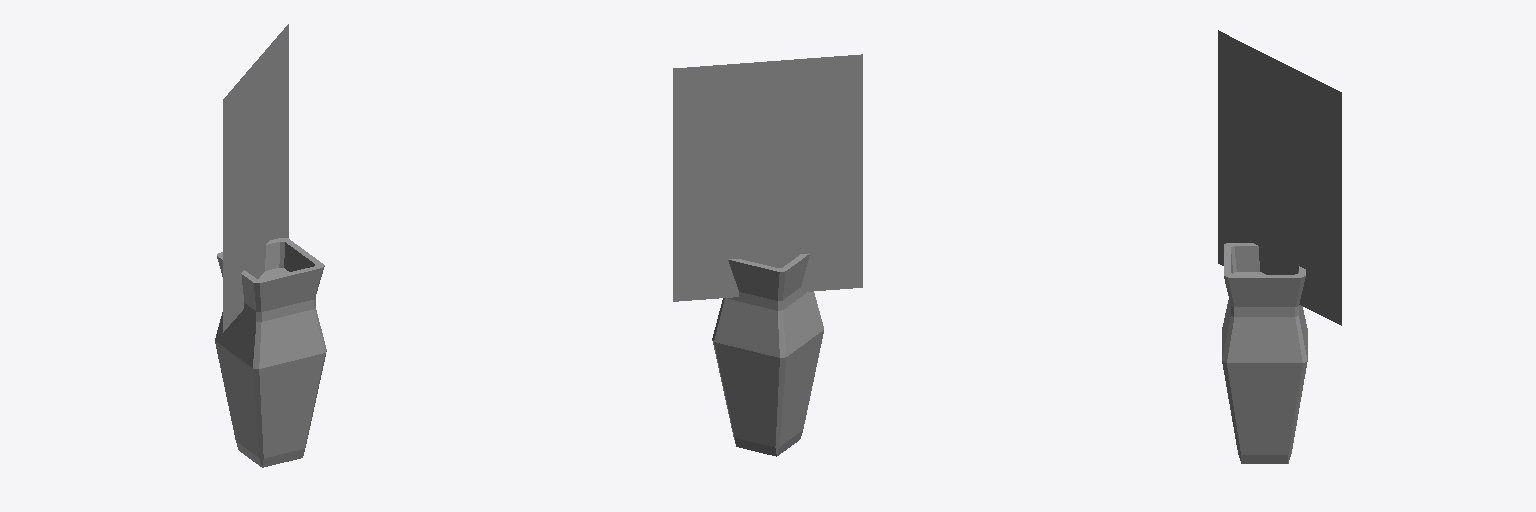
The model's file is TanPot.obj.
The picture shows the model from 3 angles: view 1: azimuth 30°, elevation 25°; view 2: azimuth 150°, elevation 25°; view 3: azimuth 270°, elevation 25°; orthographic projection.
Parts seen in each view (by area): view 1: Cube.153_Cube.225, Plane.003; view 2: Plane.003, Cube.153_Cube.225; view 3: Plane.003, Cube.153_Cube.225.
Boxes of the visible parts, x1,y1,x2,y2 form: Cube.153_Cube.225: [215, 238, 326, 467]; Plane.003: [223, 24, 288, 332]; Plane.003: [673, 54, 862, 301]; Cube.153_Cube.225: [712, 253, 823, 456]; Plane.003: [1218, 30, 1341, 325]; Cube.153_Cube.225: [1222, 243, 1307, 463].
Size of the model in its own units: 1.22 by 3.53 by 1.02.